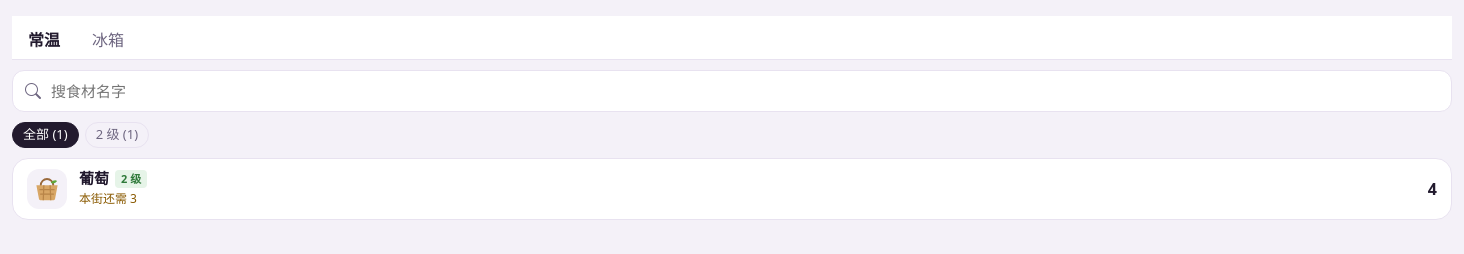
Test: CupboardView › 冰箱也有搜索框：按名字过滤，搜不到时提示看看常温
The width and height of the screenshot is (1464, 254).
Click the tab with test id "tab-fridge" at (108,40), box [76, 20, 140, 60]
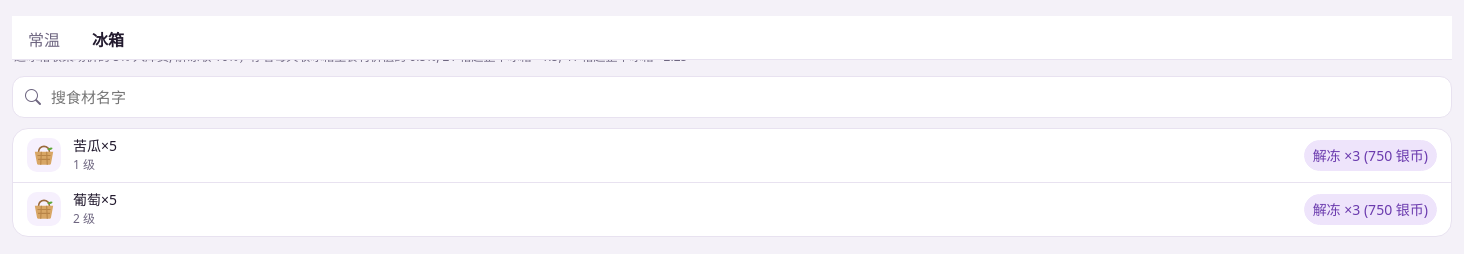
Type "葡" into the search field with test id "fridge-q" at (744,97), box [49, 85, 1439, 109]
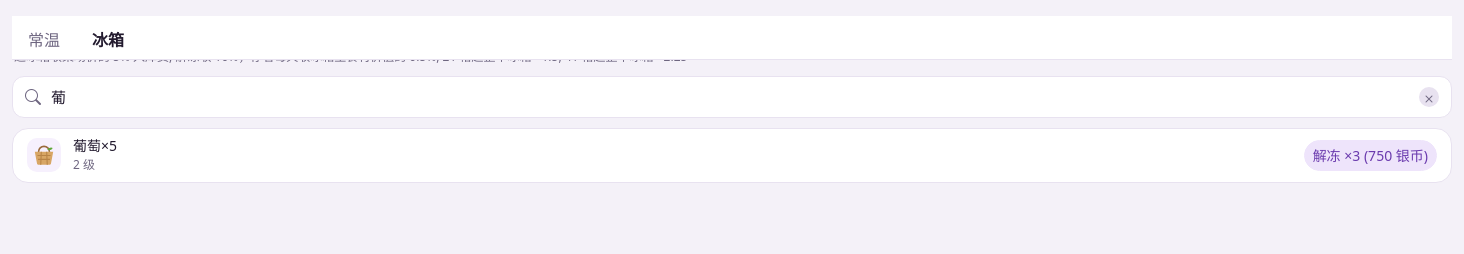
Now the element with test id "fridge-302" is shown, box [13, 129, 1451, 182]
Replace the text in the search field with test id "fridge-q" with "松露" at (730,97), box [49, 85, 1411, 109]
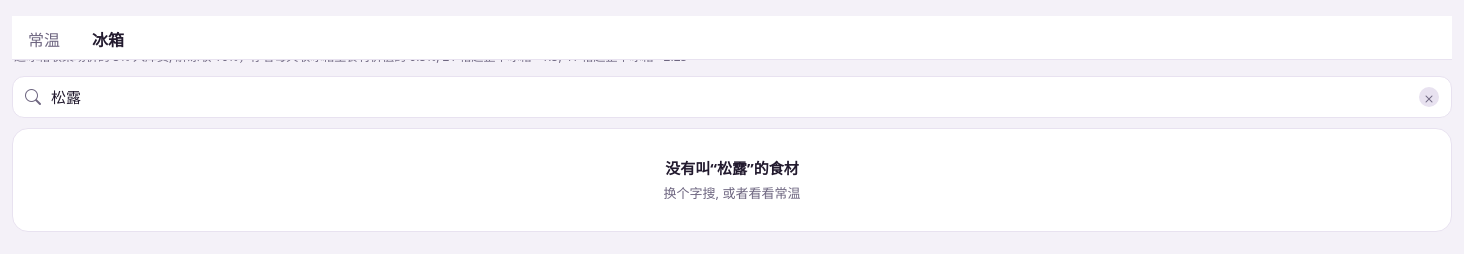
Now the element with test id "fridge-nomatch" shows "看看常温", box [664, 184, 800, 202]
